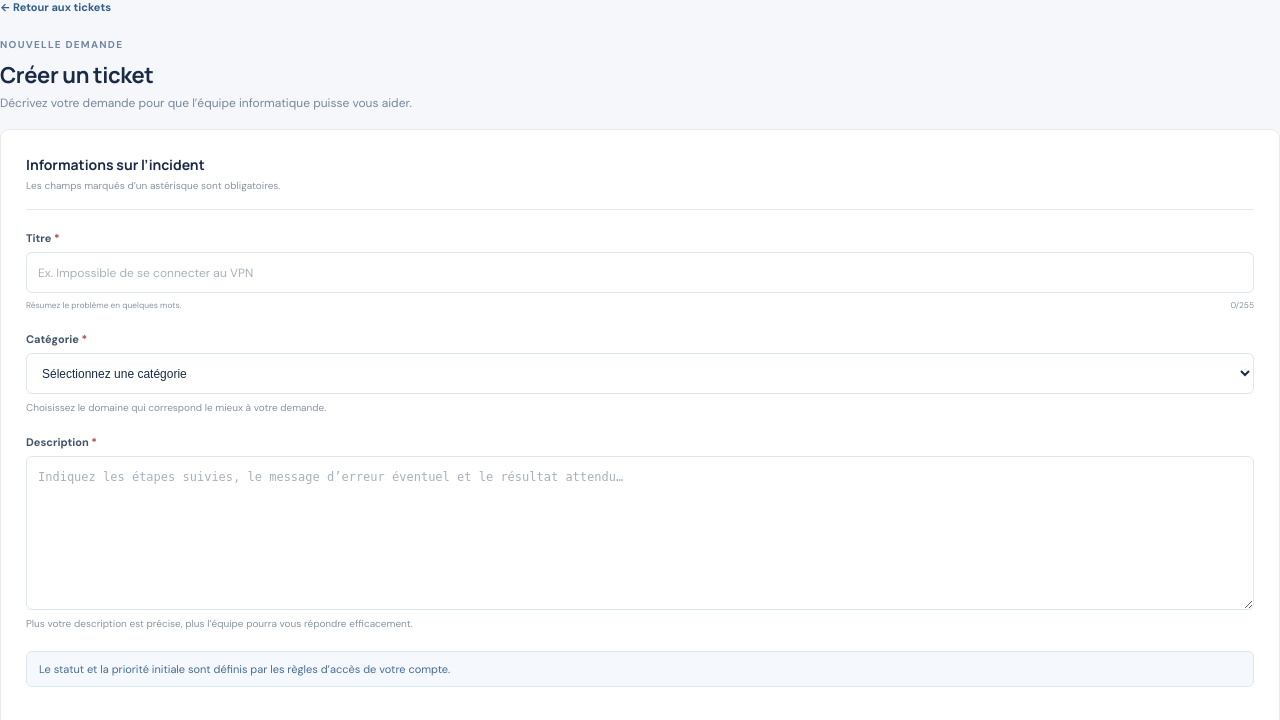
Test: TicketCreateView › shows HTTP and network failures without navigating
Type "  Accès VPN indisponible  " into the field with id "ticket-title" at (640, 272), box [26,252,1254,293]
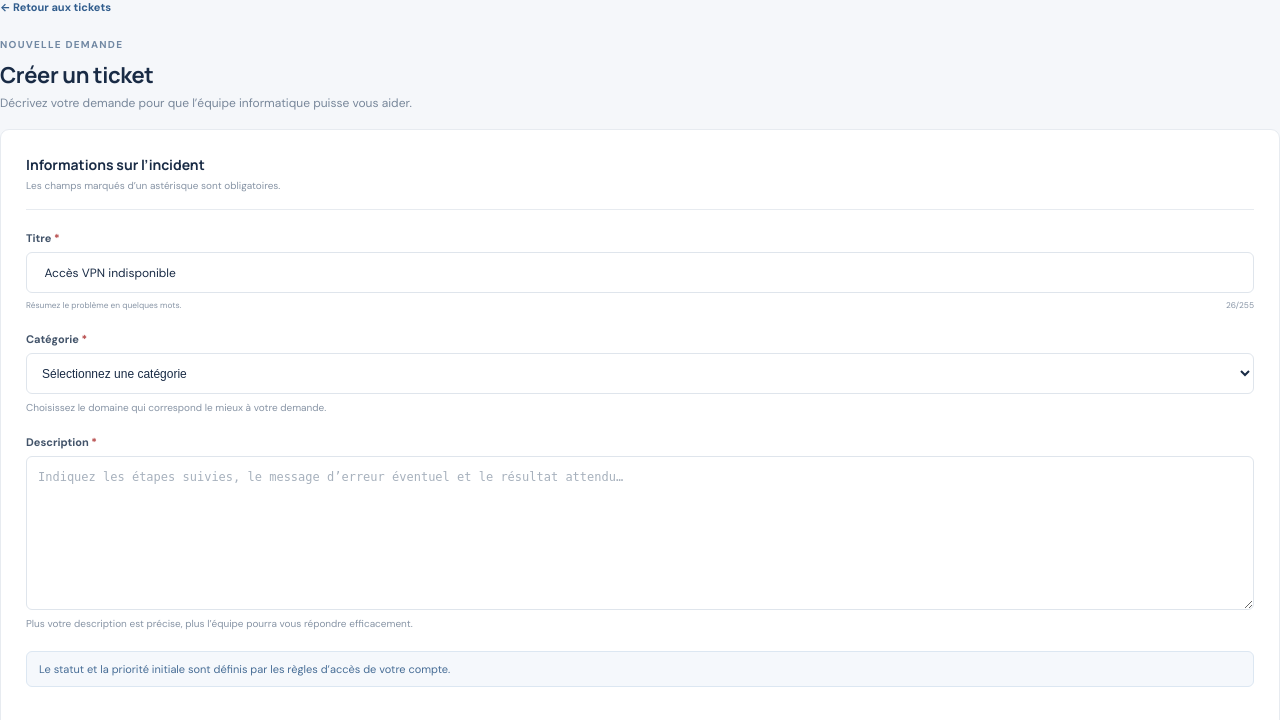
Select "VPN" in the dropdown with id "ticket-category" at (640, 374), box [26,353,1254,394]
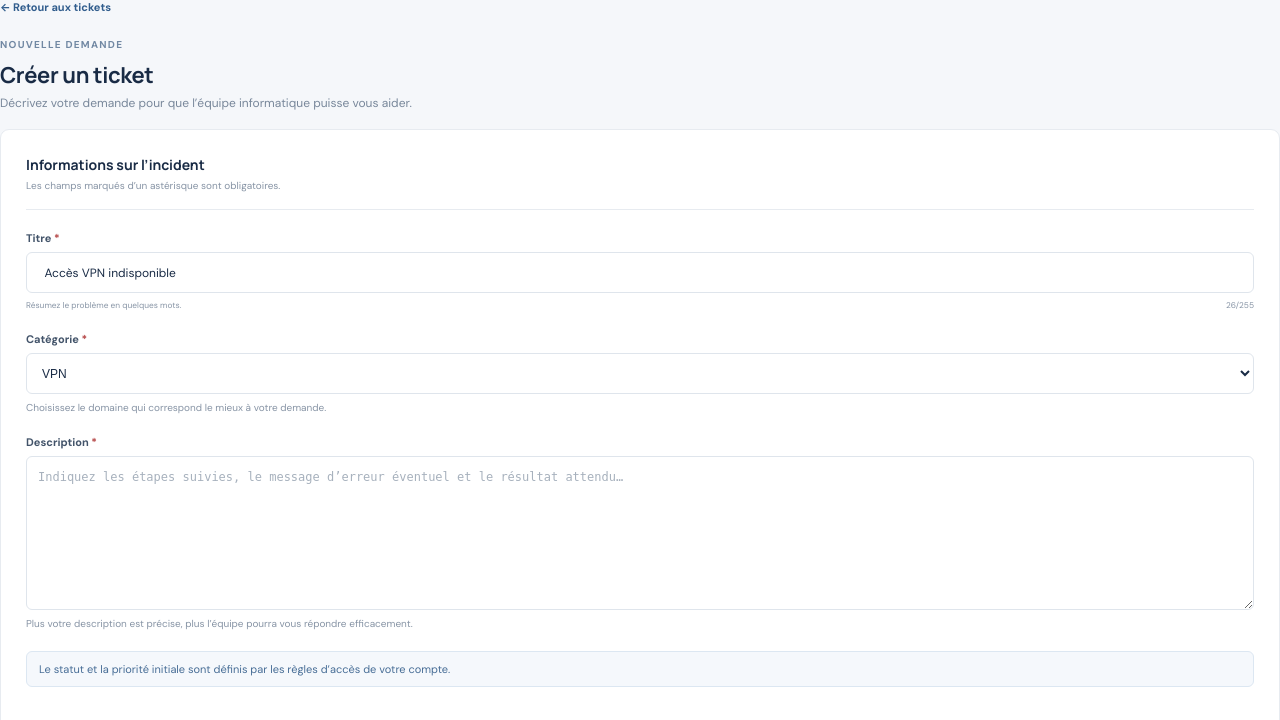
Replace the text in the text box with id "ticket-description" with "  Connexion impossible depuis ce matin.  " at (640, 533), box [26,456,1254,610]
(page scrolled)
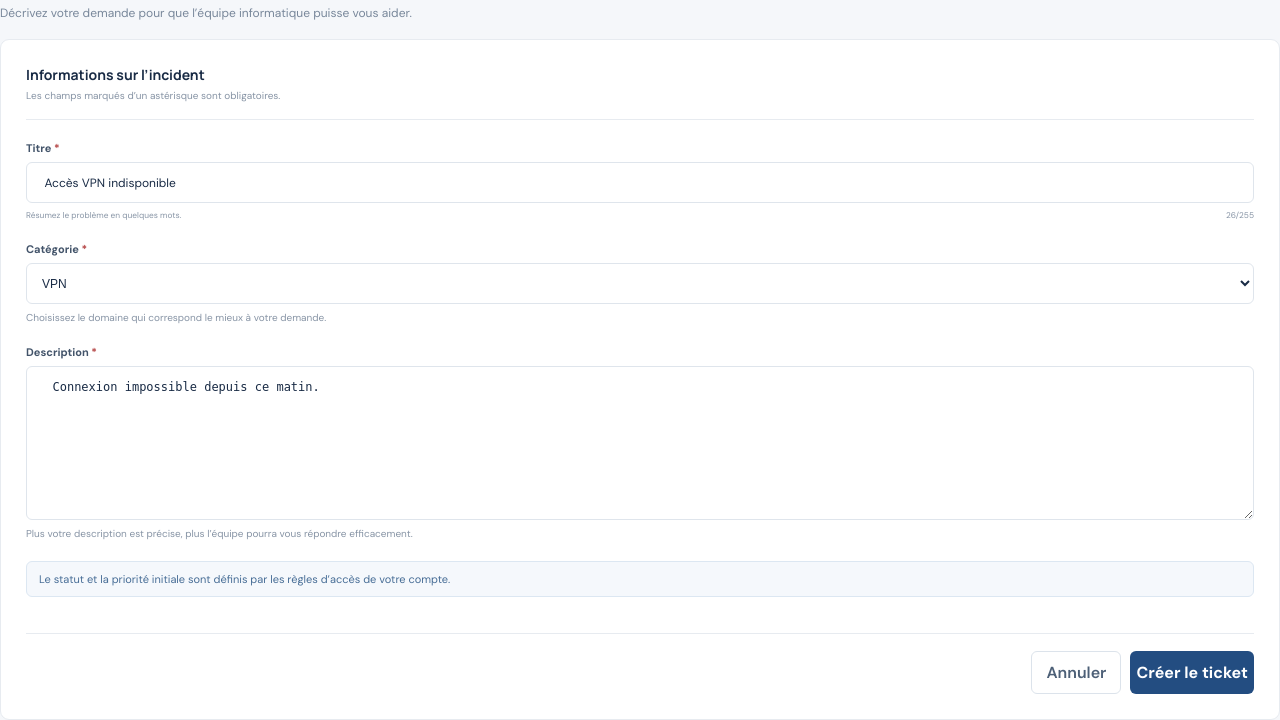
Submit the form
(page scrolled)
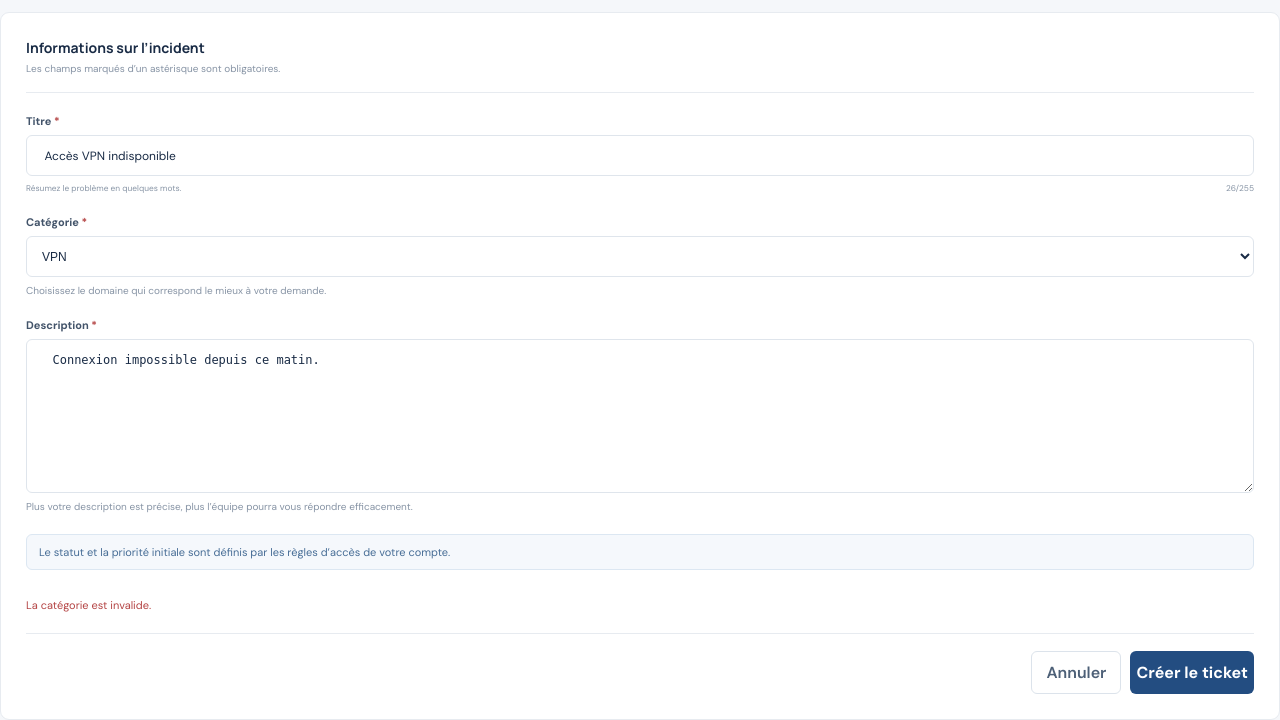
Now the message "La catégorie est invalide." is shown, box [26,598,151,612]
Submit the form
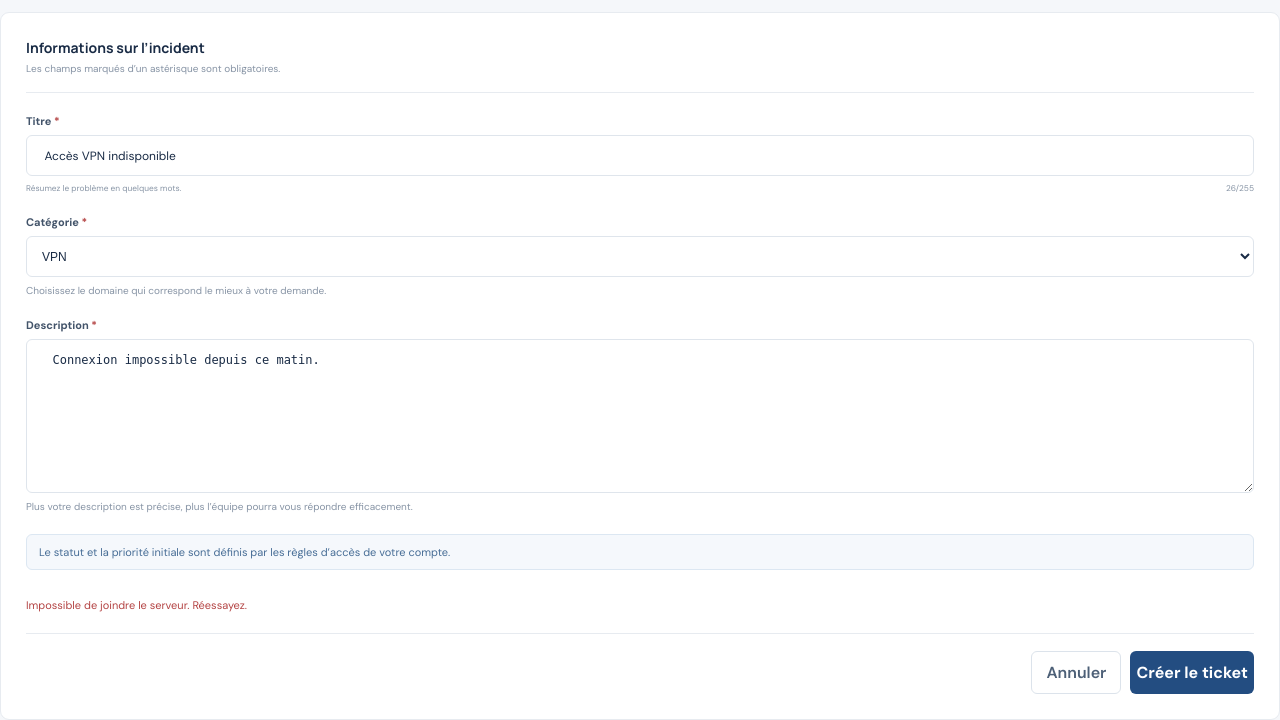
Now the message "Impossible de joindre le serveur. Réessayez." is shown, box [26,598,247,612]
